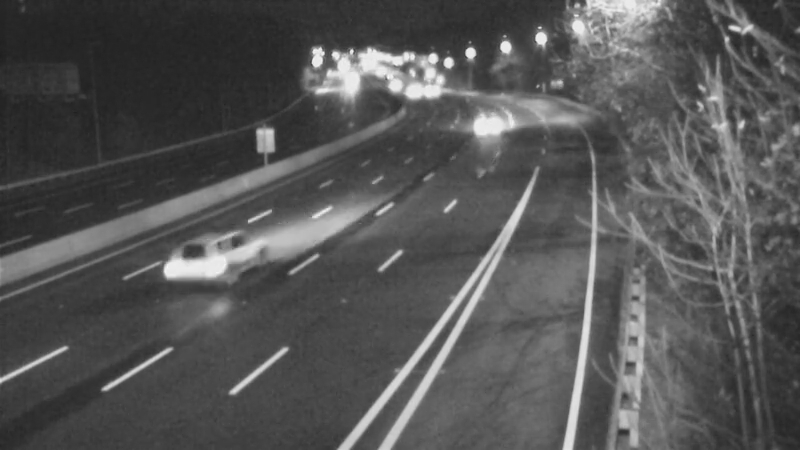vehicle: (162, 222, 242, 302), (403, 68, 453, 118), (366, 61, 416, 111), (388, 65, 438, 115), (459, 105, 509, 155), (327, 62, 377, 112)
